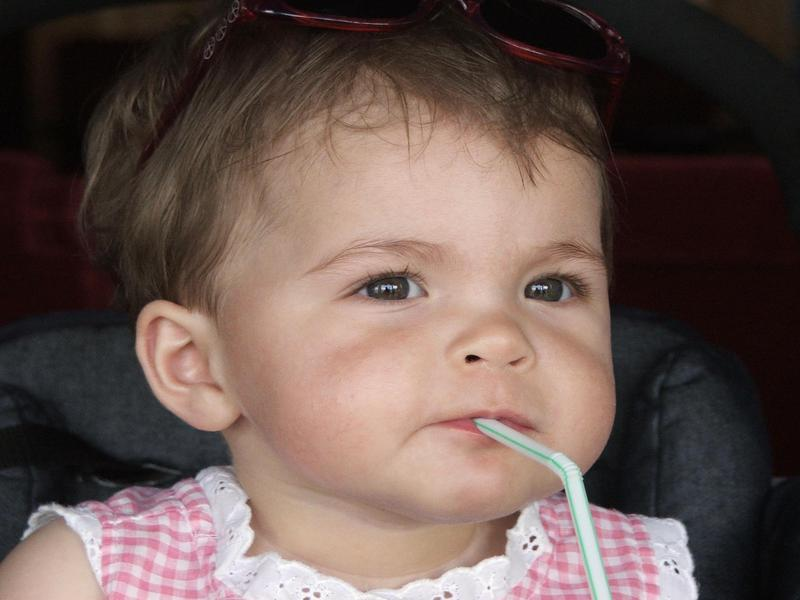person: (58, 20, 689, 600)
